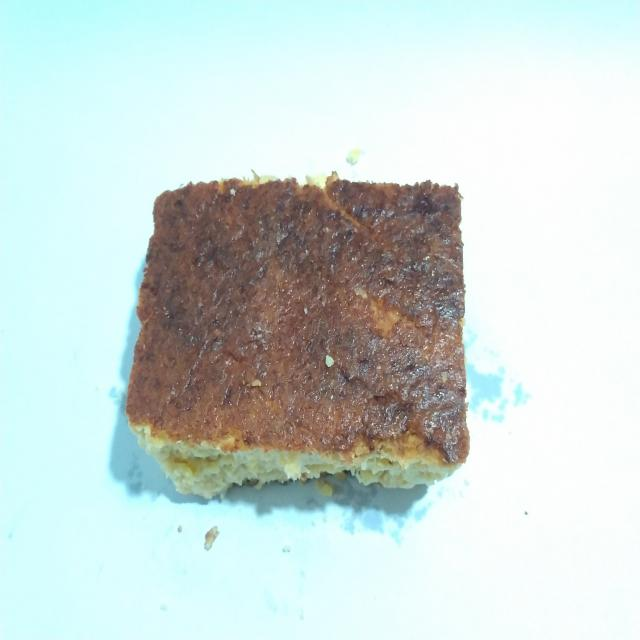Food: (117, 162, 483, 506)
